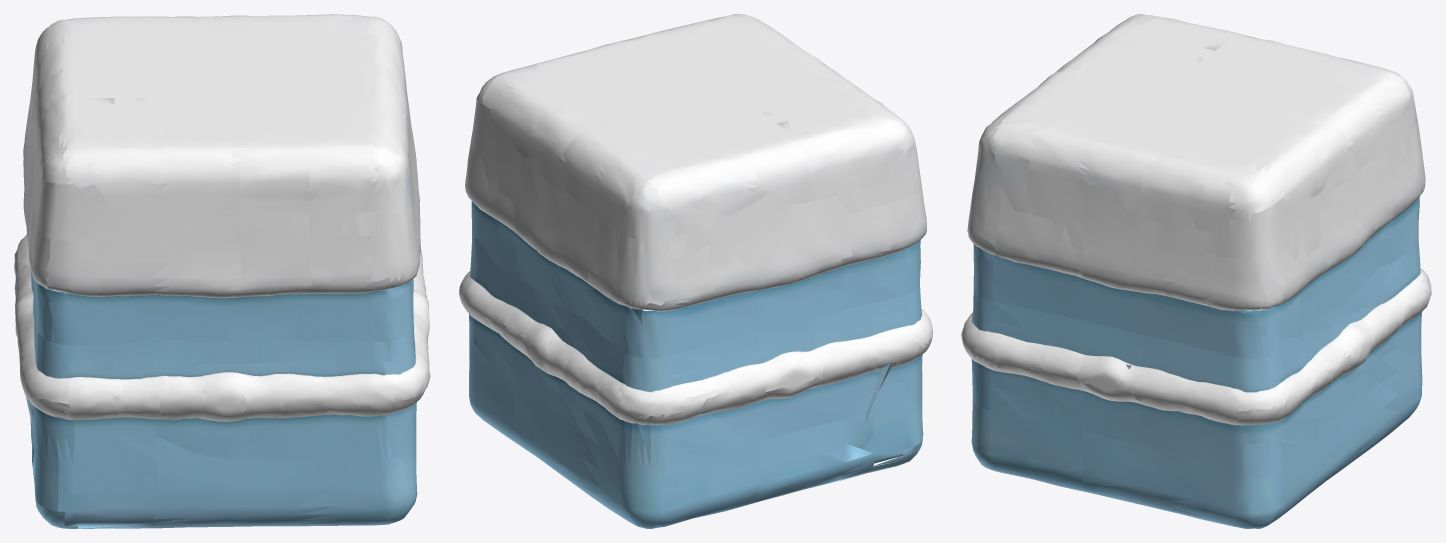
The model's file is SnowpackBlock.glb.
The picture shows the model from 3 angles, left to right: view 1: azimuth 30°, elevation 25°; view 2: azimuth 150°, elevation 25°; view 3: azimuth 270°, elevation 25°; orthographic projection. The views are drawn at different scales.
Visible parts, largest first — view 1: Mesh::generatedModels/o6qUdzITBCbFEuK0gdzo.gltf; view 2: Mesh::generatedModels/o6qUdzITBCbFEuK0gdzo.gltf; view 3: Mesh::generatedModels/o6qUdzITBCbFEuK0gdzo.gltf.
Boxes of the visible parts, bbox=[...] form: Mesh::generatedModels/o6qUdzITBCbFEuK0gdzo.gltf: bbox=[14, 14, 430, 528]; Mesh::generatedModels/o6qUdzITBCbFEuK0gdzo.gltf: bbox=[459, 14, 932, 528]; Mesh::generatedModels/o6qUdzITBCbFEuK0gdzo.gltf: bbox=[961, 14, 1431, 528].
Size of the model in its own units: 1.24 by 1 by 1.23.
1 material, 1 textured.
